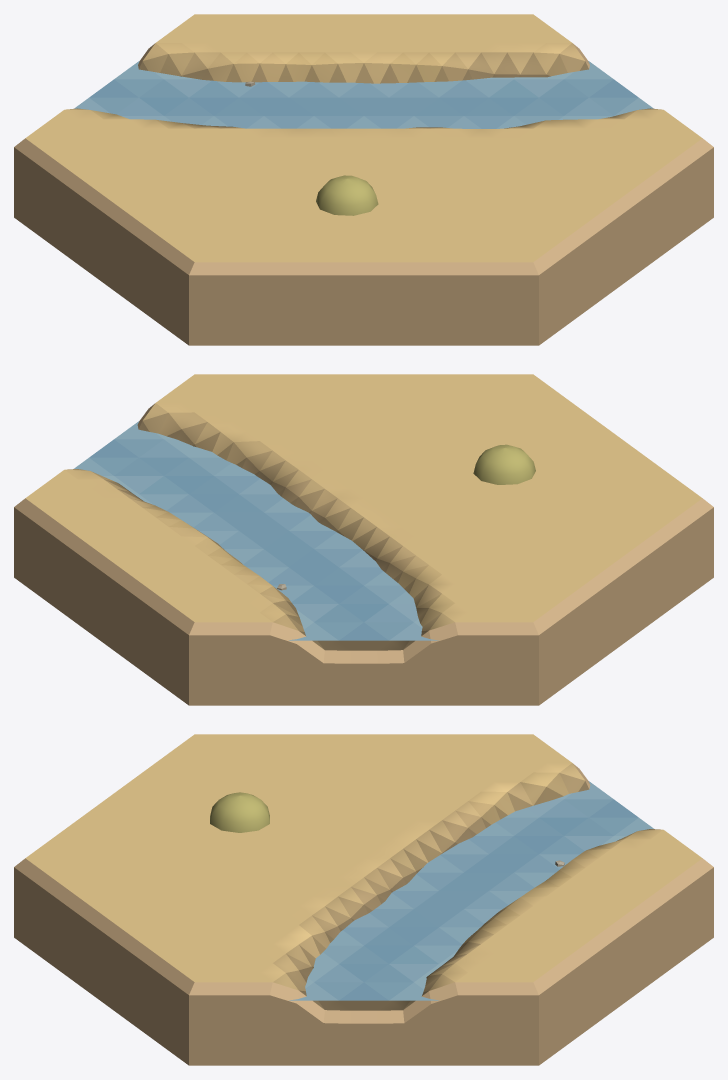
The model's file is river_bend_dry_1.fbx.
3 views of the same model, one above another, from view 1: azimuth 30°, elevation 25°; view 2: azimuth 150°, elevation 25°; view 3: azimuth 270°, elevation 25° (orthographic).
Parts seen in each view (by area): view 1: river_bend_dry_1; view 2: river_bend_dry_1; view 3: river_bend_dry_1.
Part boxes in pixels (x1,y1,x2,y2): river_bend_dry_1: [14, 14, 713, 345]; river_bend_dry_1: [14, 374, 713, 705]; river_bend_dry_1: [14, 734, 713, 1065].
Size of the model in its own units: 1.73 by 0.3265 by 2.
